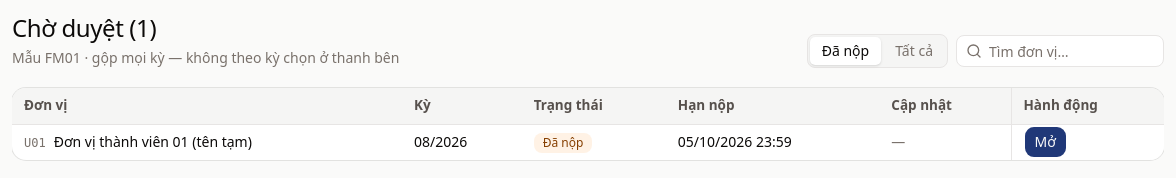
/reports — admin (report.approve) và viewer (report.view_all) › bấm Tất cả bỏ lọc state=submitted, gọi lại API, và đổi tiêu đề (S2 — không còn chữ Chờ duyệt)
This screenshot has width=1176, height=178.
Expected: the heading "Chờ duyệt (1)" is shown, 12,11 -> 156,44
Click the button "Tất cả": click(914, 51) 883,37 -> 945,65
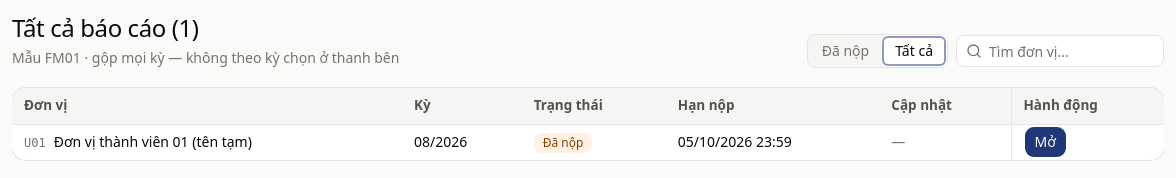
Expected: the heading "Tất cả báo cáo (1)" is shown, 12,11 -> 199,44
Expected: the heading "Chờ duyệt" is gone
